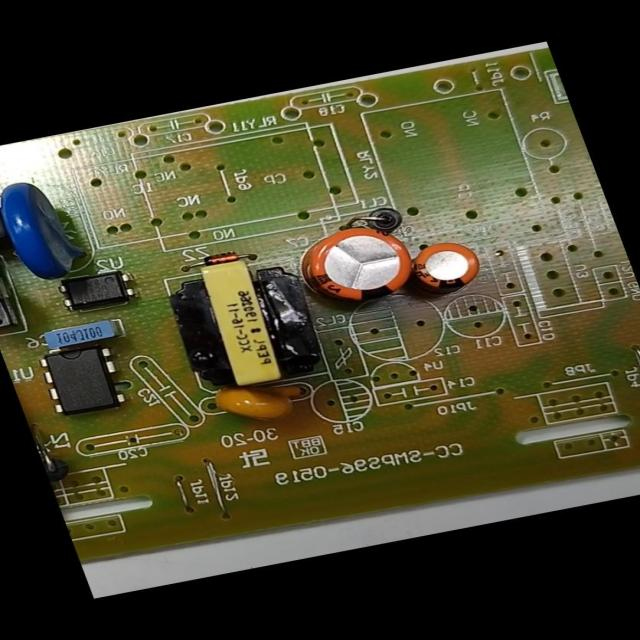Cap1: (282, 214, 428, 318)
Cap2: (396, 228, 501, 306)
MOSFET: (18, 330, 140, 431)
Mov: (0, 165, 106, 292)
Transformer: (148, 247, 343, 409), (0, 244, 31, 338)
